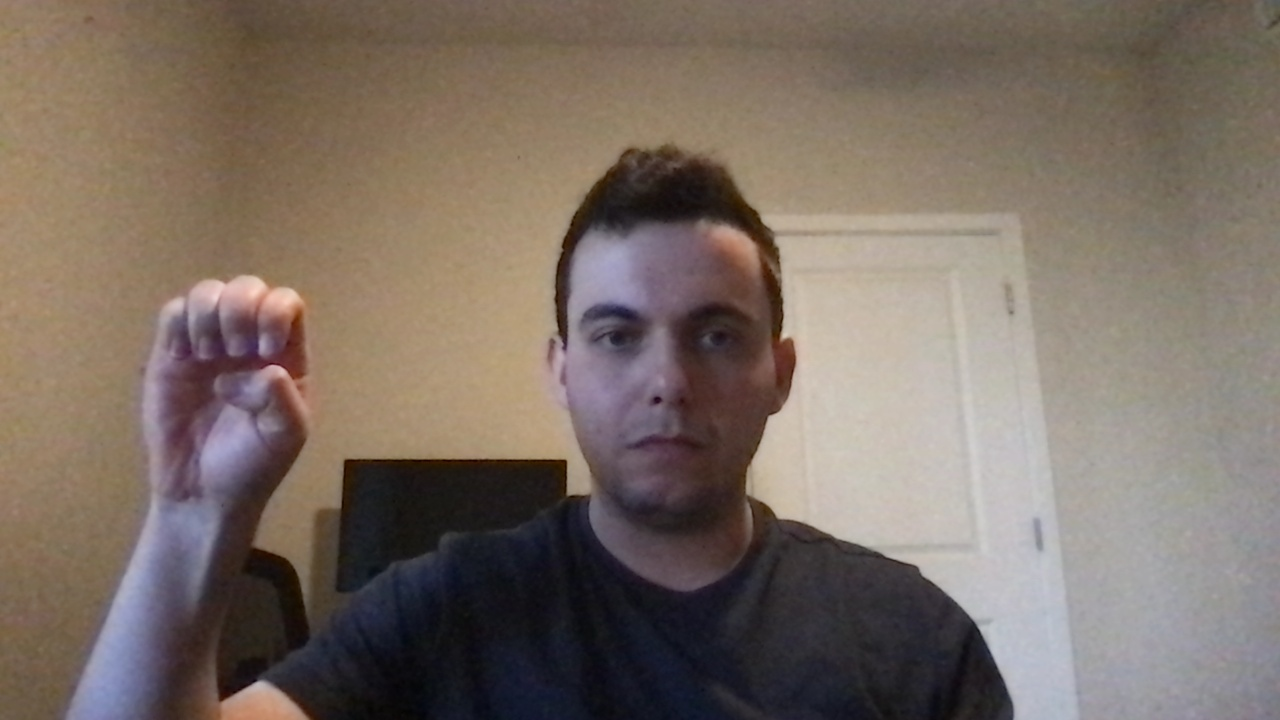e: (123, 265, 326, 515)
